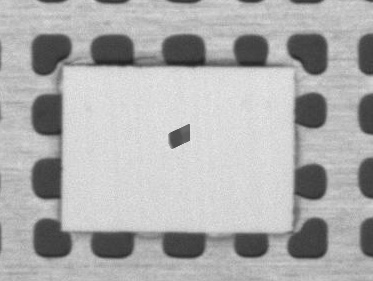DIE_INK: (168, 121, 190, 148)
